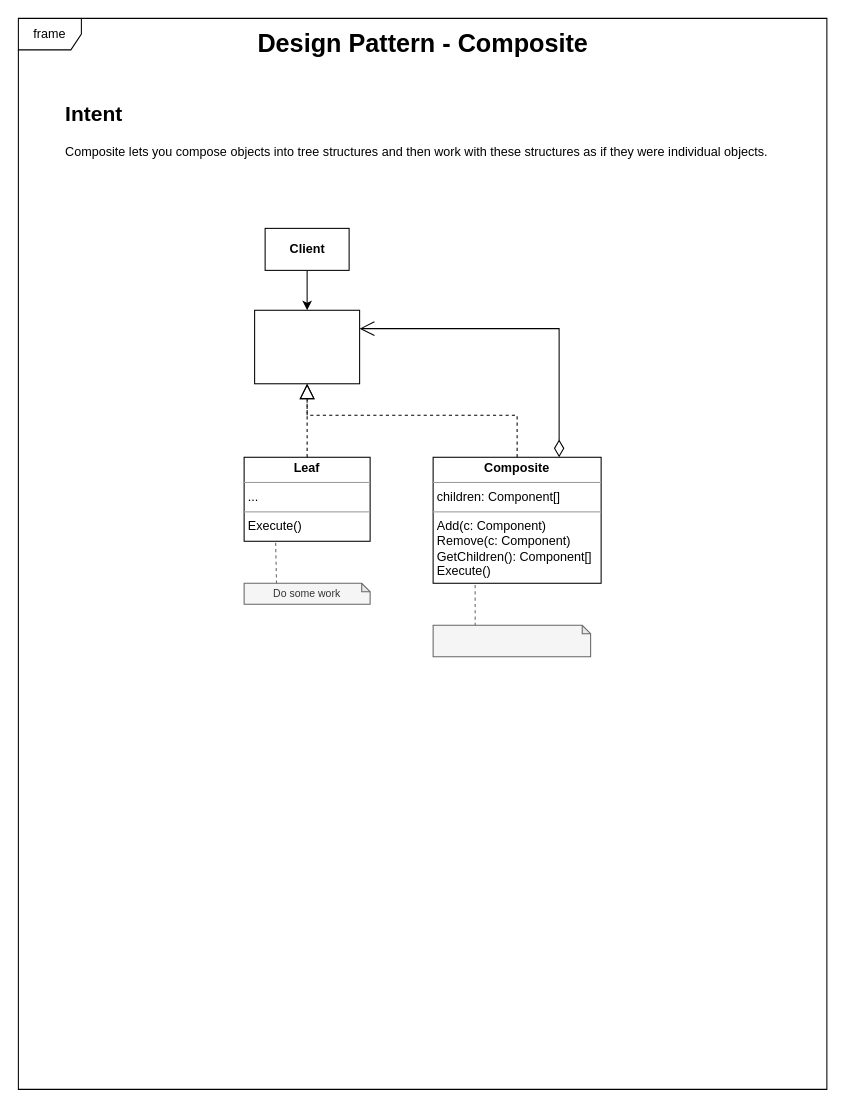
Image size: 845x1108. Some labels were removed from this diagram. Each missing label, with the centre of its shape:
"<<Interface>> Component Execute()" goes at point (307, 346).
"Delegate all work to child components" goes at point (511, 640).
